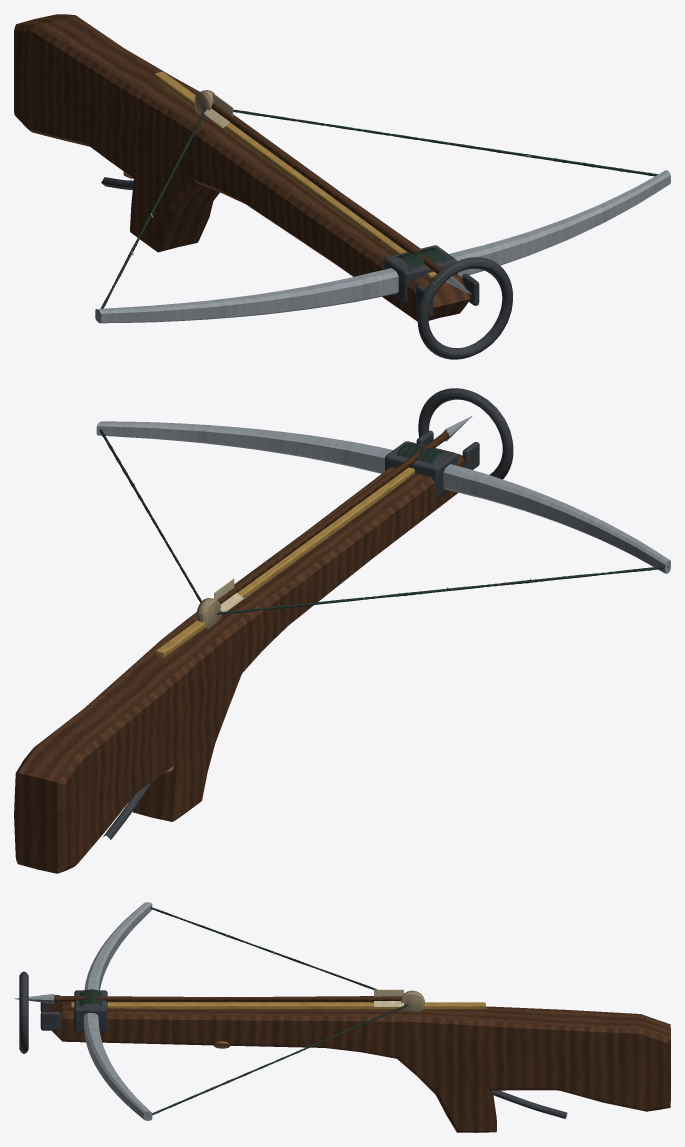
Rendered from crossbow.lod1.glb.
3 renders of one model, top to bottom at view 1: azimuth 30°, elevation 25°; view 2: azimuth 150°, elevation 25°; view 3: azimuth 270°, elevation 25°, orthographic. The views are drawn at different scales.
Visible parts, largest first — view 1: wood / oiled hardwood, steel / forged blade steel, darksteel / oil-blackened fittings, brass / polished brass furniture, cord / waxed silk cord wrap; view 2: wood / oiled hardwood, steel / forged blade steel, darksteel / oil-blackened fittings, brass / polished brass furniture, cord / waxed silk cord wrap; view 3: wood / oiled hardwood, steel / forged blade steel, darksteel / oil-blackened fittings, brass / polished brass furniture, cord / waxed silk cord wrap, horn / polished horn and bone, paper / paper and vellum.
Boxes of the visible parts, box(x1,y1,x2,y2) form: wood / oiled hardwood: box(14, 14, 470, 321); steel / forged blade steel: box(95, 170, 670, 323); darksteel / oil-blackened fittings: box(101, 177, 512, 359); brass / polished brass furniture: box(154, 71, 437, 277); cord / waxed silk cord wrap: box(97, 109, 657, 315); wood / oiled hardwood: box(14, 432, 466, 873); steel / forged blade steel: box(96, 416, 670, 573); darksteel / oil-blackened fittings: box(103, 388, 513, 839); brass / polished brass furniture: box(156, 467, 414, 657); cord / waxed silk cord wrap: box(99, 429, 668, 614); wood / oiled hardwood: box(45, 996, 670, 1132); steel / forged blade steel: box(14, 902, 152, 1120); darksteel / oil-blackened fittings: box(19, 971, 567, 1118); brass / polished brass furniture: box(71, 1002, 485, 1009); cord / waxed silk cord wrap: box(74, 907, 408, 1116); horn / polished horn and bone: box(400, 990, 424, 1011); paper / paper and vellum: box(374, 989, 403, 1006).
Bounding box in the file's own units: 0.7423 × 0.2477 × 0.9812.
Materials: 9 (7 with a texture image).
